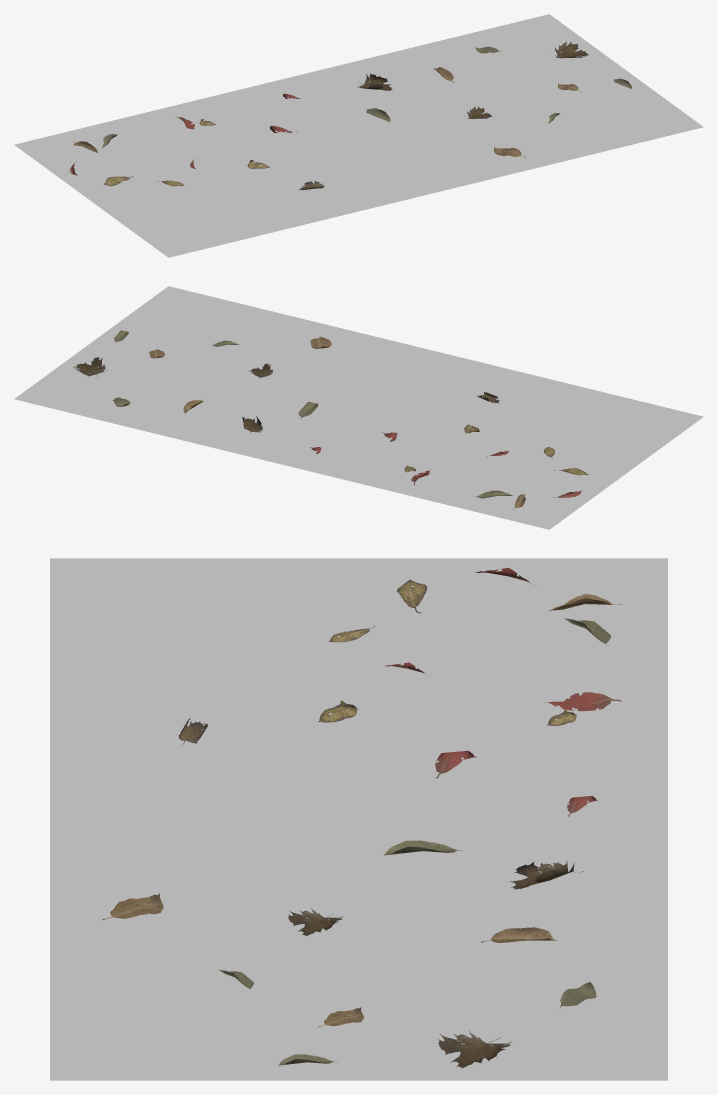
The model's file is Leaves2.FBX.
3 renders of one model, top to bottom at view 1: azimuth 30°, elevation 25°; view 2: azimuth 150°, elevation 25°; view 3: azimuth 270°, elevation 25°, orthographic. The views are drawn at different scales.
Visible parts, largest first — view 1: Leaves2_Decal, Leaves2; view 2: Leaves2_Decal, Leaves2; view 3: Leaves2_Decal, Leaves2.
Boxes of the visible parts, left/top/right/bottom form: Leaves2_Decal: left=14, top=14, right=703, bottom=257; Leaves2: left=69, top=41, right=631, bottom=190; Leaves2_Decal: left=14, top=286, right=703, bottom=529; Leaves2: left=72, top=330, right=588, bottom=509; Leaves2_Decal: left=50, top=558, right=667, bottom=1080; Leaves2: left=102, top=567, right=622, bottom=1068.
Bounding box in the file's own units: 2.2 × 0.0453 × 1.1.
